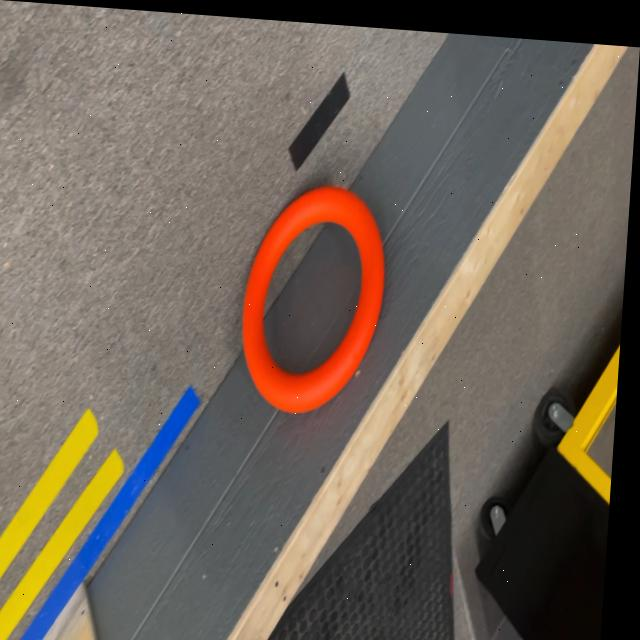note: (242, 176, 393, 412)
